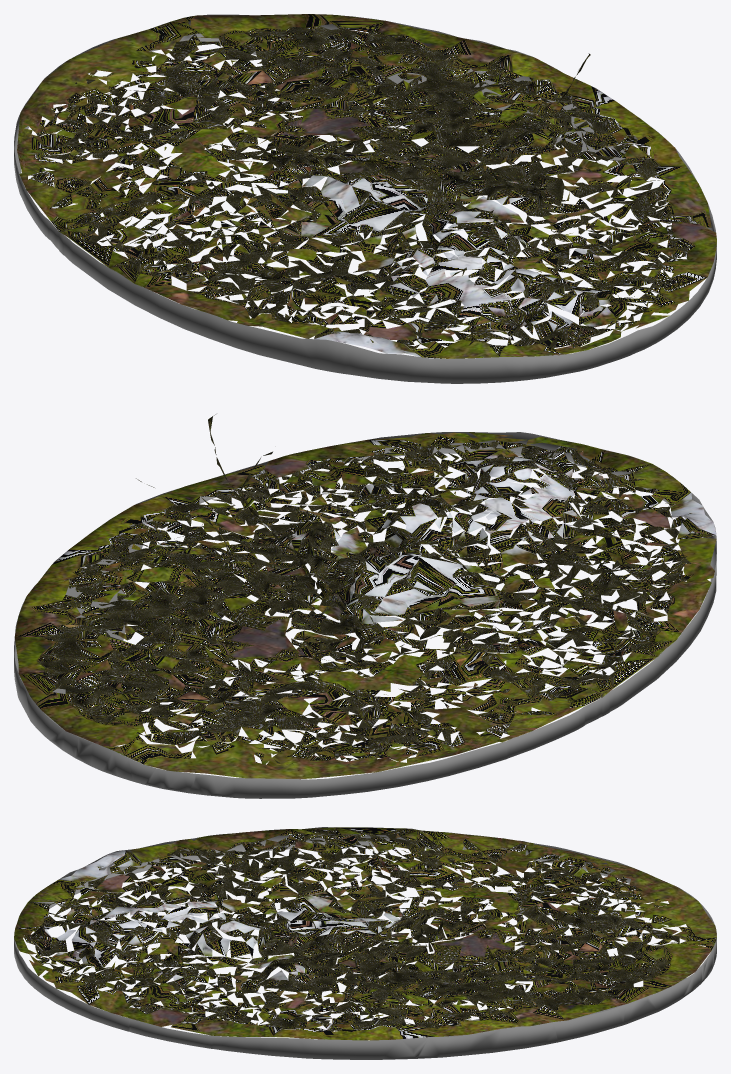
3 views of the same model, one above another, from view 1: azimuth 30°, elevation 25°; view 2: azimuth 150°, elevation 25°; view 3: azimuth 270°, elevation 25° (orthographic). The views are drawn at different scales.
Parts seen in each view (by area): view 1: Object_2, Object_3, Object_5, Object_4; view 2: Object_2, Object_3, Object_5, Object_4; view 3: Object_2, Object_3, Object_5.
Boxes of the visible parts, x1=… form: Object_2: x1=17, y1=14, x2=716, y2=358; Object_3: x1=29, y1=32, x2=686, y2=356; Object_5: x1=14, y1=14, x2=716, y2=383; Object_4: x1=216, y1=41, x2=642, y2=164; Object_2: x1=14, y1=432, x2=716, y2=779; Object_3: x1=68, y1=414, x2=705, y2=763; Object_5: x1=14, y1=432, x2=716, y2=798; Object_4: x1=21, y1=543, x2=143, y2=744; Object_2: x1=14, y1=827, x2=716, y2=1040; Object_3: x1=15, y1=833, x2=679, y2=1026; Object_5: x1=14, y1=827, x2=716, y2=1059.
Size of the model in its own units: 0.4087 by 0.099 by 0.5638.
2 materials, 1 textured.
